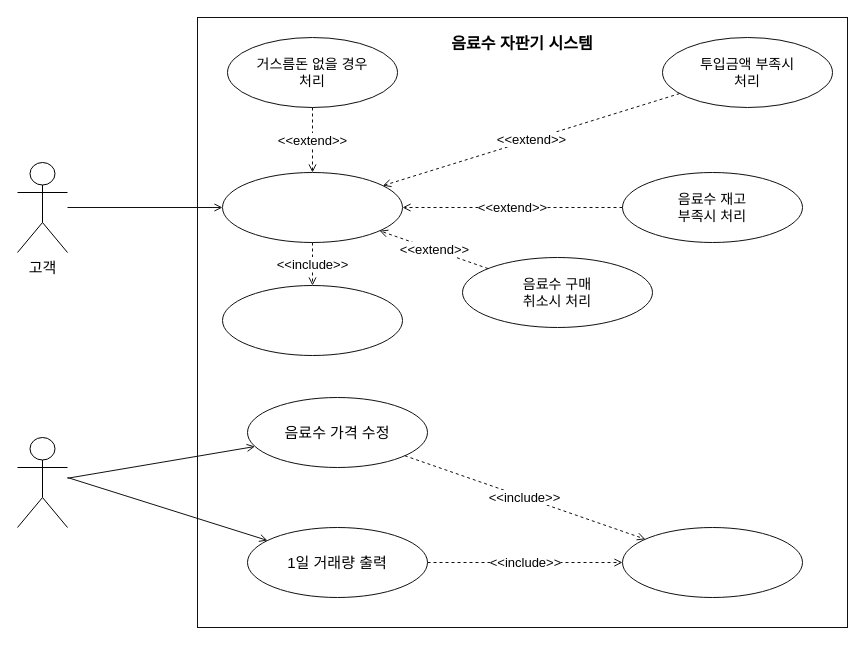
This 865x645 diagram has some shape labels left out. The centre of each missing label's shape, as x and y in pixels:
관리모드로 전환: (x=712, y=562)
관리자: (x=42, y=482)
운영모드로 전환: (x=312, y=320)
음료수 구입: (x=312, y=207)
